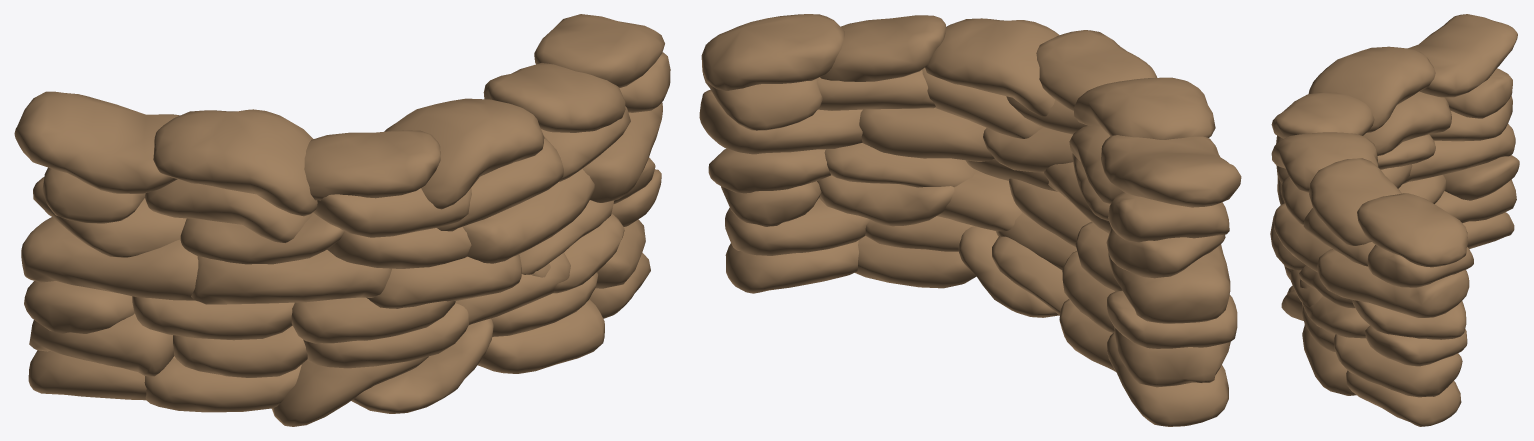
File: SandBag_01a.fbx
3 renders of one model, left to right at view 1: azimuth 30°, elevation 25°; view 2: azimuth 150°, elevation 25°; view 3: azimuth 270°, elevation 25°, orthographic. The views are drawn at different scales.
Visible parts, largest first — view 1: SandBag_01a; view 2: SandBag_01a; view 3: SandBag_01a.
Boxes of the visible parts, left/top/right/bottom form: SandBag_01a: left=14, top=14, right=670, bottom=426; SandBag_01a: left=699, top=14, right=1241, bottom=426; SandBag_01a: left=1270, top=14, right=1519, bottom=426.
Size of the model in its own units: 217 by 99.8 by 102.
